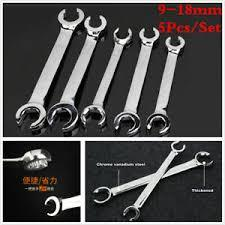wrench: (14, 6, 84, 130), (45, 13, 108, 131), (91, 149, 213, 205), (110, 25, 160, 135), (79, 26, 133, 127), (121, 139, 186, 221), (144, 34, 186, 134)
